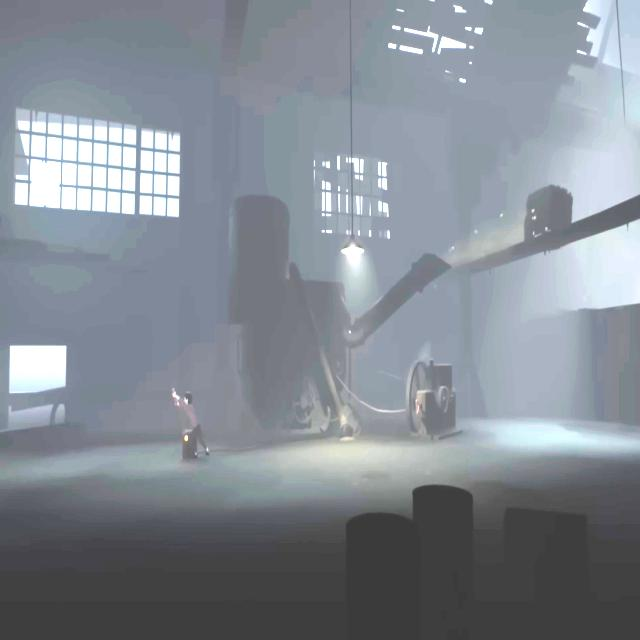boy: (176, 391, 210, 459)
